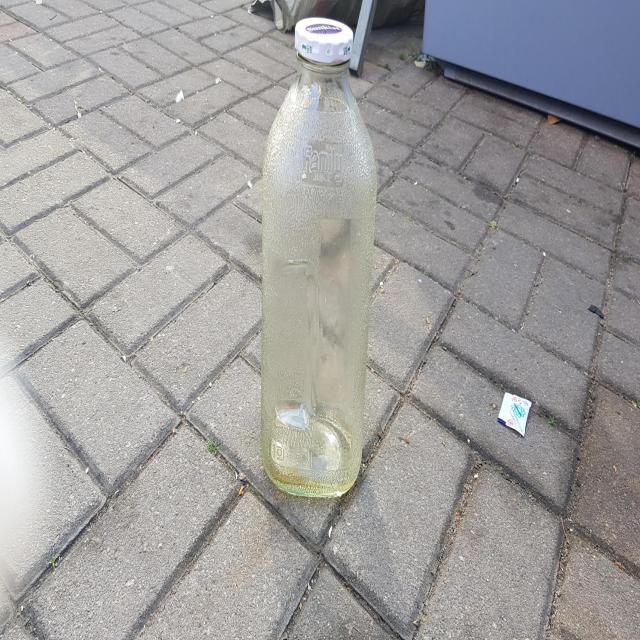glass: (261, 15, 377, 497)
